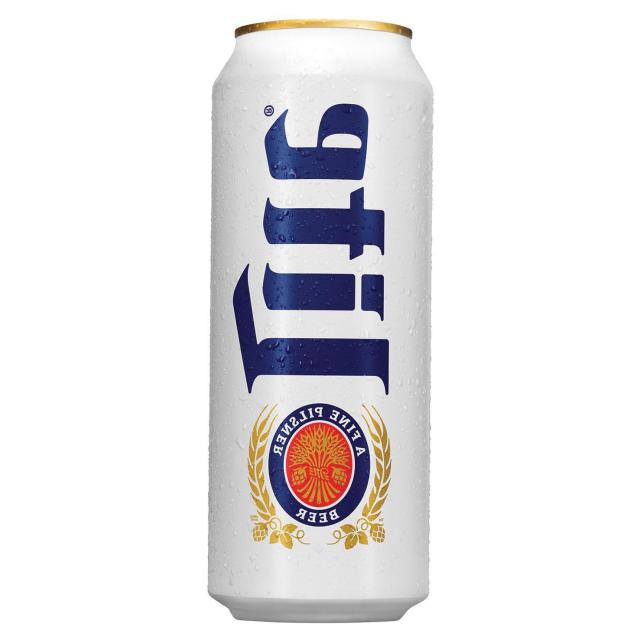metal: (208, 19, 433, 623), (208, 73, 432, 598)
